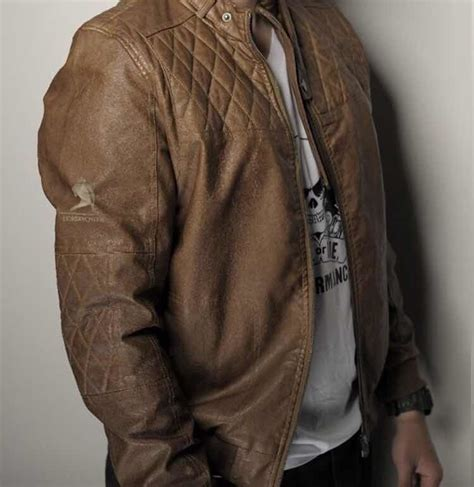cuero: (36, 1, 436, 487)
